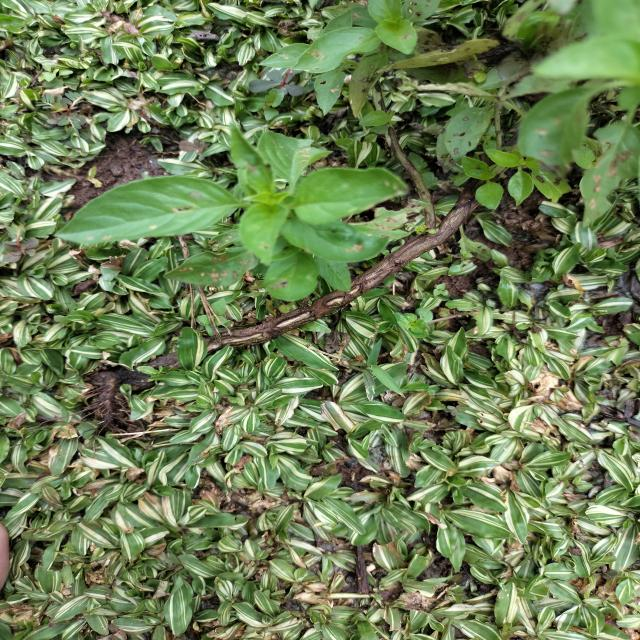buah daun: (32, 87, 94, 136), (247, 68, 309, 99)
rambat atas: (336, 336, 412, 403)
ungu tunggang: (394, 306, 440, 340)
